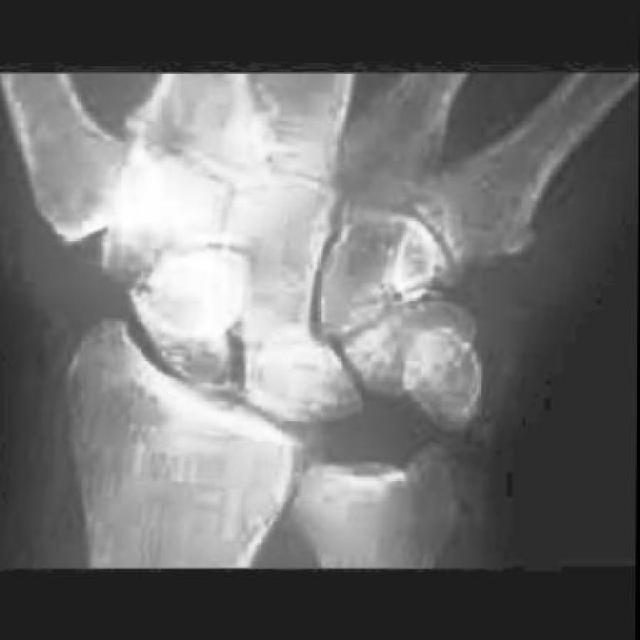Fracture: (89, 175, 210, 331)
